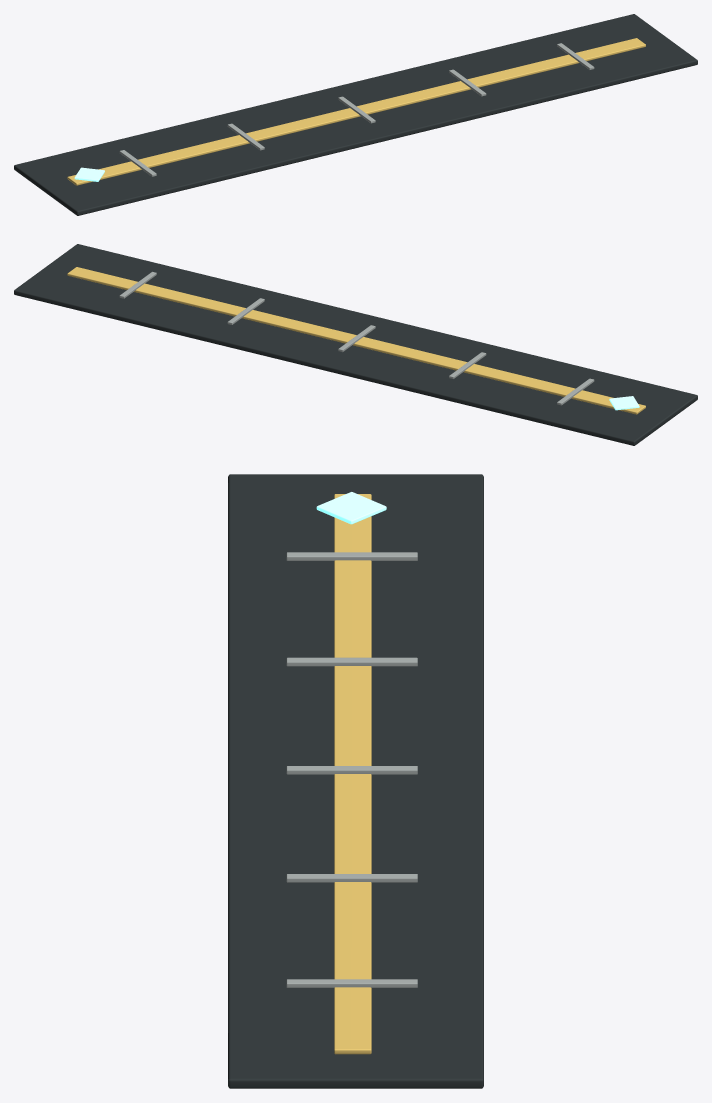
File: age_museum_floor_route_inlay.glb
3 renders of one model, top to bottom at view 1: azimuth 30°, elevation 25°; view 2: azimuth 150°, elevation 25°; view 3: azimuth 270°, elevation 25°, orthographic. The views are drawn at different scales.
Parts seen in each view (by area): view 1: age_museum_floor_route_inlay_thin_black_recess, age_museum_floor_route_inlay_main_worn_gold_path, age_museum_floor_route_inlay_muted_cyan_waypoint; view 2: age_museum_floor_route_inlay_thin_black_recess, age_museum_floor_route_inlay_main_worn_gold_path, age_museum_floor_route_inlay_muted_cyan_waypoint; view 3: age_museum_floor_route_inlay_thin_black_recess, age_museum_floor_route_inlay_main_worn_gold_path, age_museum_floor_route_inlay_muted_cyan_waypoint, age_museum_floor_route_inlay_route_tick_02, age_museum_floor_route_inlay_route_tick_01, age_museum_floor_route_inlay_route_tick_05, age_museum_floor_route_inlay_route_tick_03, age_museum_floor_route_inlay_route_tick_04.
Part boxes in pixels (box(x1,y1,x2,y2)): age_museum_floor_route_inlay_thin_black_recess: box(14, 14, 697, 215); age_museum_floor_route_inlay_main_worn_gold_path: box(67, 38, 645, 185); age_museum_floor_route_inlay_muted_cyan_waypoint: box(74, 167, 104, 181); age_museum_floor_route_inlay_thin_black_recess: box(14, 244, 697, 445); age_museum_floor_route_inlay_main_worn_gold_path: box(67, 267, 645, 414); age_museum_floor_route_inlay_muted_cyan_waypoint: box(609, 396, 639, 410); age_museum_floor_route_inlay_thin_black_recess: box(228, 474, 483, 1088); age_museum_floor_route_inlay_main_worn_gold_path: box(334, 494, 371, 1054); age_museum_floor_route_inlay_muted_cyan_waypoint: box(316, 492, 386, 524); age_museum_floor_route_inlay_route_tick_02: box(286, 657, 417, 666); age_museum_floor_route_inlay_route_tick_01: box(286, 552, 417, 560); age_museum_floor_route_inlay_route_tick_05: box(286, 979, 417, 987); age_museum_floor_route_inlay_route_tick_03: box(286, 766, 417, 774); age_museum_floor_route_inlay_route_tick_04: box(286, 874, 417, 882).
Size of the model in its own units: 4.6 by 0.069 by 0.82.
